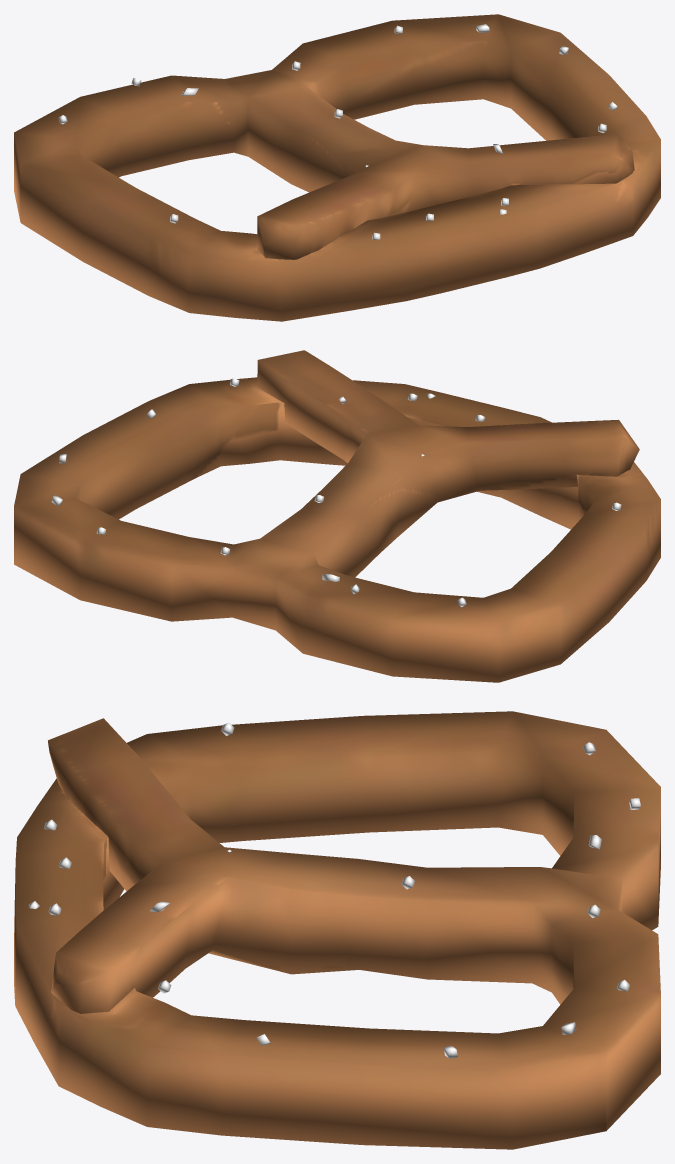
The model's file is pretzel.fbx.
The picture shows the model from 3 angles, top to bottom: view 1: azimuth 30°, elevation 25°; view 2: azimuth 150°, elevation 25°; view 3: azimuth 270°, elevation 25°; orthographic projection. The views are drawn at different scales.
Visible parts, largest first — view 1: Circle; view 2: Circle; view 3: Circle.
Part boxes in pixels (left/top/right/bottom): Circle: left=14, top=14, right=660, bottom=321; Circle: left=14, top=350, right=660, bottom=682; Circle: left=14, top=711, right=660, bottom=1149.
Size of the model in its own units: 148 by 25.11 by 113.
